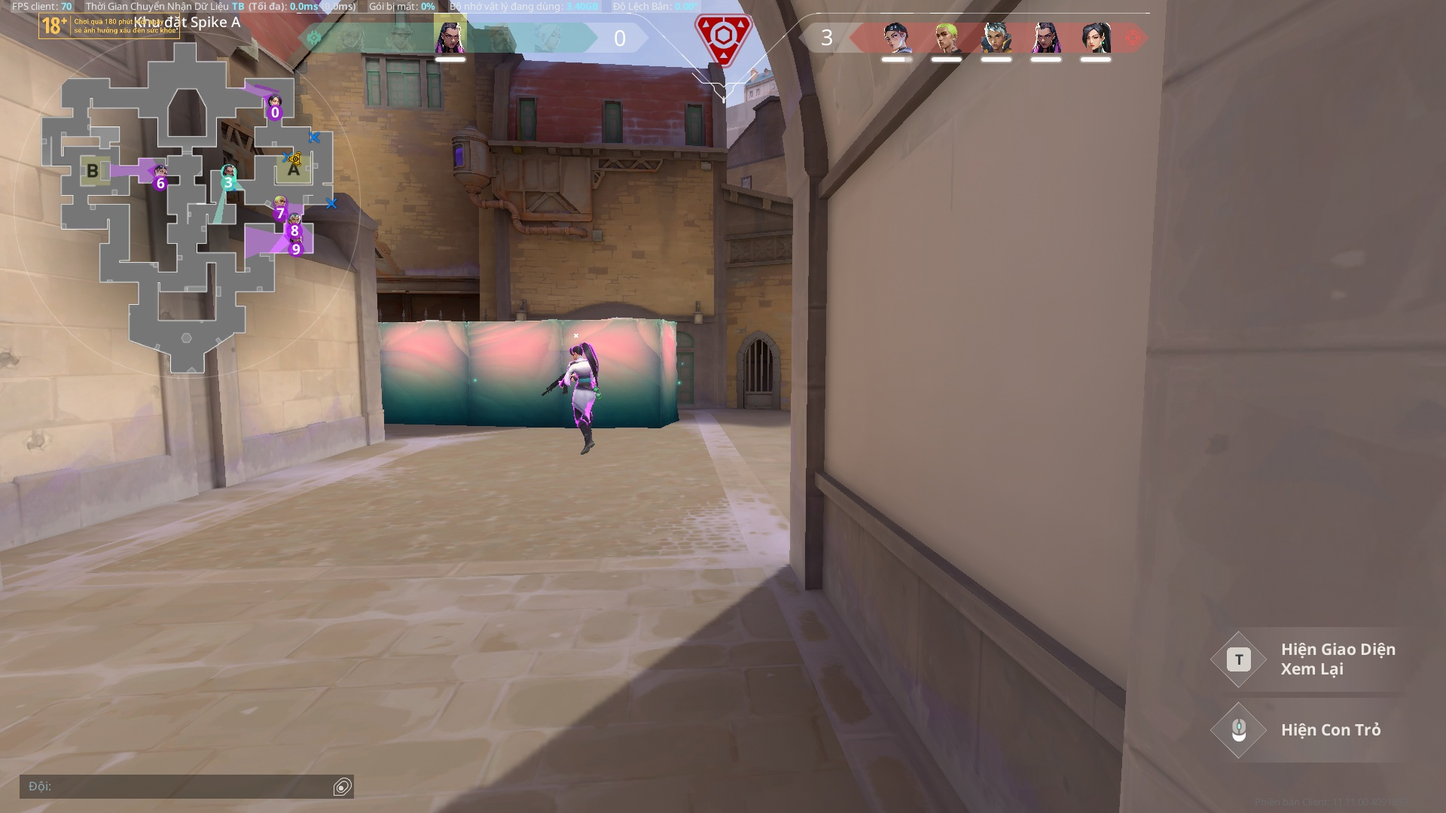body: (569, 358, 596, 389)
head: (567, 343, 582, 359)
